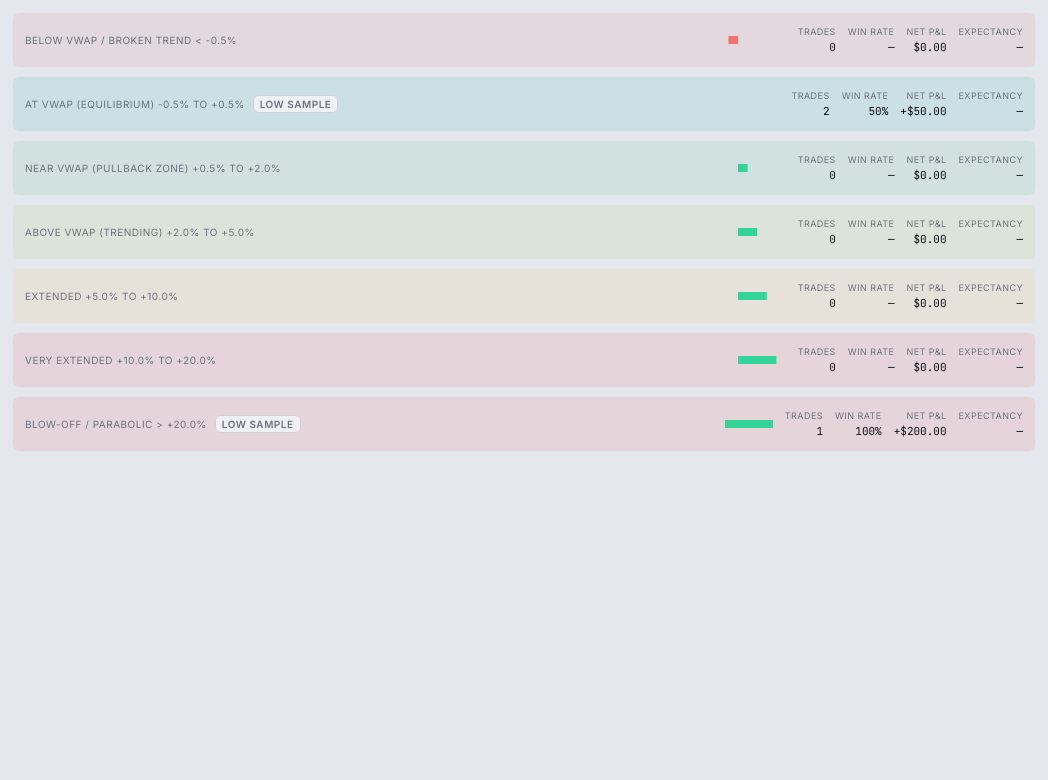
Test: VwapDistanceBand — Section 3 vertical list (integration) › clicking a bucket opens its accordion and mounts the VWAP-dist table
This screenshot has width=1048, height=780.
Click the button "At VWAP": (135, 104) [12, 76, 1036, 132]
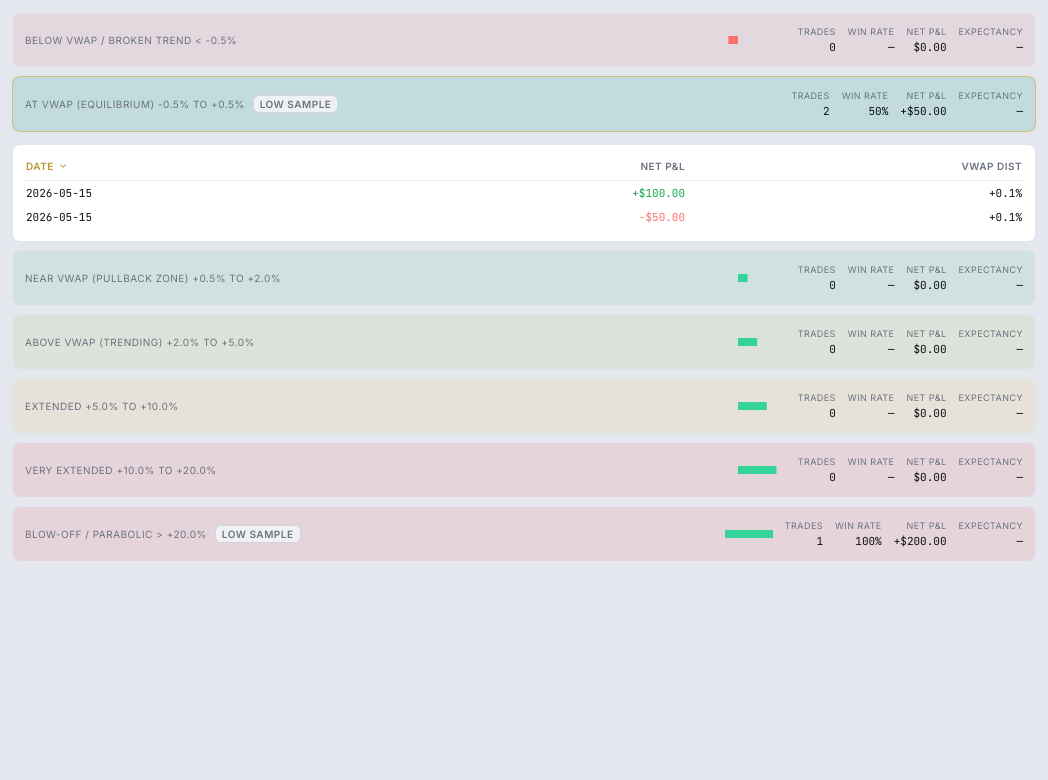
Result: the table is shown at [25, 157, 1023, 229]
Result: the text "VWAP dist" is shown at [961, 158, 1022, 174]
